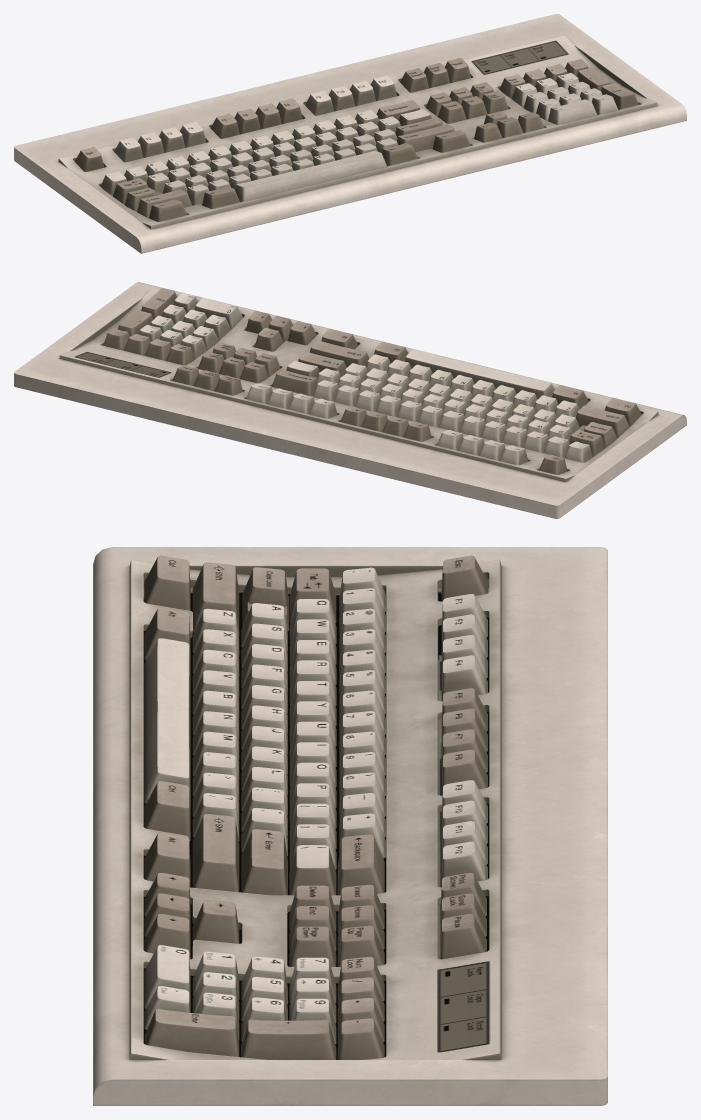
Rendered from old_keyboard.glb.
3 views of the same model, one above another, from view 1: azimuth 30°, elevation 25°; view 2: azimuth 150°, elevation 25°; view 3: azimuth 270°, elevation 25° (orthographic). The views are drawn at different scales.
Visible parts, largest first — view 1: Plane.033, Plane.032, Plane.030, Plane.017, Plane.028, Plane.029, Plane.026, Plane.023, Plane.025, Plane.024, Plane.018, Plane.081 (+27 smaller); view 2: Plane.033, Plane.032, Plane.030, Plane.029, Plane.028, Plane.022, Plane.017, Plane.018, Plane.020, Plane.026, Plane.025, Plane.019 (+46 smaller); view 3: Plane.033, Plane.032, Plane.030, Plane.019, Plane.018, Plane.028, Plane.020, Plane.022, Plane.029, Plane.024, Plane.026, Plane.017 (+91 smaller).
Part boxes in pixels (x1,y1,x2,y2): Plane.033: (14,14,686,253); Plane.032: (58,35,657,229); Plane.030: (235,150,386,202); Plane.017: (548,99,597,124); Plane.028: (397,124,454,152); Plane.029: (137,189,192,218); Plane.026: (149,199,186,221); Plane.023: (432,130,470,152); Plane.025: (202,186,239,208); Plane.024: (382,143,417,166); Plane.018: (601,83,638,109); Plane.081: (210,114,239,138); Plane.033: (14,282,686,518); Plane.032: (59,288,658,482); Plane.030: (405,349,554,398); Plane.029: (576,405,629,438); Plane.028: (309,340,369,367); Plane.022: (271,370,317,396); Plane.017: (195,298,242,329); Plane.018: (141,288,176,319); Plane.020: (298,351,346,376); Plane.026: (605,398,641,426); Plane.025: (552,385,588,409); Plane.019: (118,310,153,336); Plane.033: (93,547,607,1105); Plane.032: (129,559,501,1059); Plane.030: (144,638,190,810); Plane.019: (241,1019,336,1059); Plane.018: (144,1008,239,1056); Plane.028: (192,814,239,892); Plane.020: (241,829,287,895); Plane.022: (337,834,384,895); Plane.029: (192,562,239,636); Plane.024: (144,781,190,841); Plane.026: (144,555,190,610); Plane.017: (144,945,190,1012).
Bounding box in the file's own units: 341 × 15.34 × 139.
Materials: 1 (1 with a texture image).
